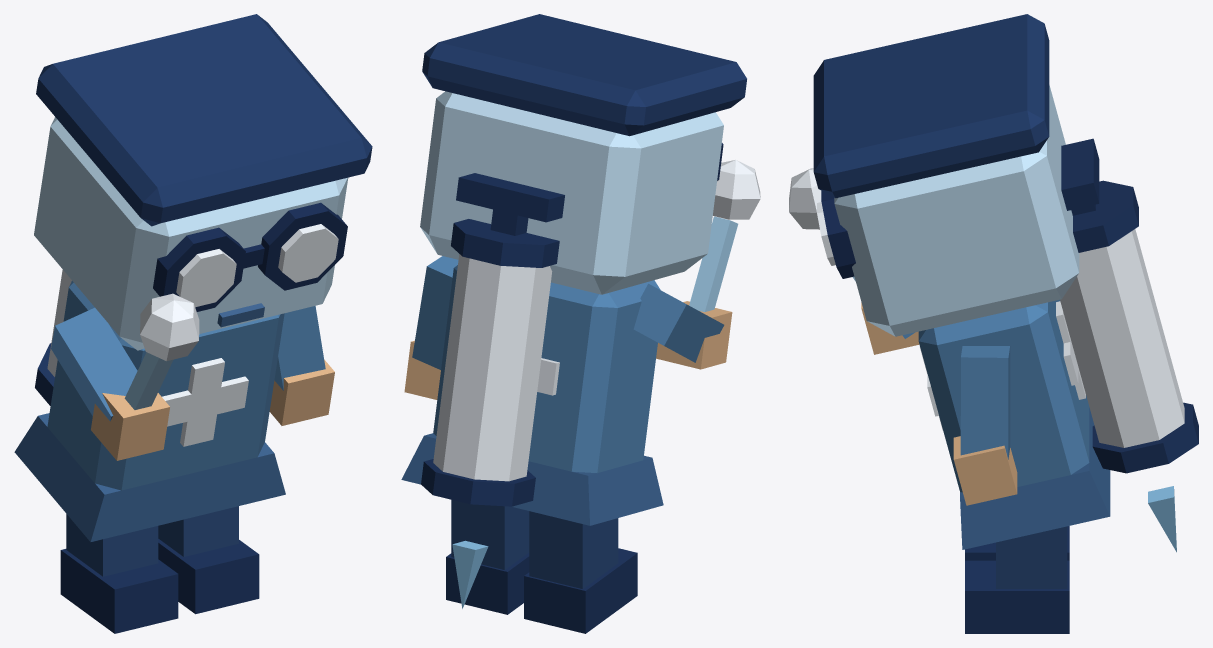
The model's file is medic_enemy_r2.glb.
The picture shows the model from 3 angles, left to right: view 1: azimuth 30°, elevation 25°; view 2: azimuth 150°, elevation 25°; view 3: azimuth 270°, elevation 25°; orthographic projection. The views are drawn at different scales.
Parts seen in each view (by area): view 1: medic_enemy_r2_mesh; view 2: medic_enemy_r2_mesh; view 3: medic_enemy_r2_mesh.
Part boxes in pixels (left/top/right/bottom): medic_enemy_r2_mesh: left=14, top=14, right=372, bottom=633; medic_enemy_r2_mesh: left=401, top=14, right=760, bottom=633; medic_enemy_r2_mesh: left=789, top=14, right=1198, bottom=633.
Size of the model in its own units: 0.7643 by 1.5 by 1.04.
1 material, 1 textured.
